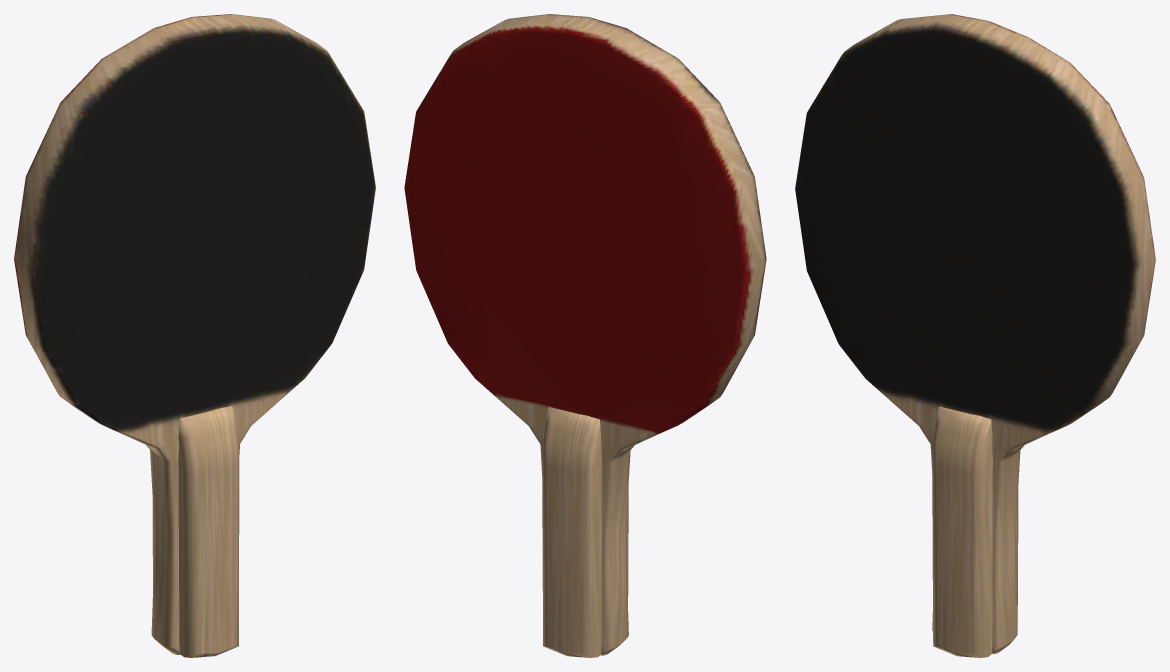
The model's file is 0-pingpongracket.fbx.
3 views of the same model, side by side, from view 1: azimuth 30°, elevation 25°; view 2: azimuth 150°, elevation 25°; view 3: azimuth 330°, elevation 25° (orthographic).
Visible parts, largest first — view 1: 0-pingpongracket; view 2: 0-pingpongracket; view 3: 0-pingpongracket.
Part boxes in pixels (x1,y1,x2,y2): 0-pingpongracket: (14, 14, 375, 657); 0-pingpongracket: (404, 14, 766, 657); 0-pingpongracket: (795, 14, 1155, 657).
Size of the model in its own units: 53.85 by 92.6 by 11.12.
